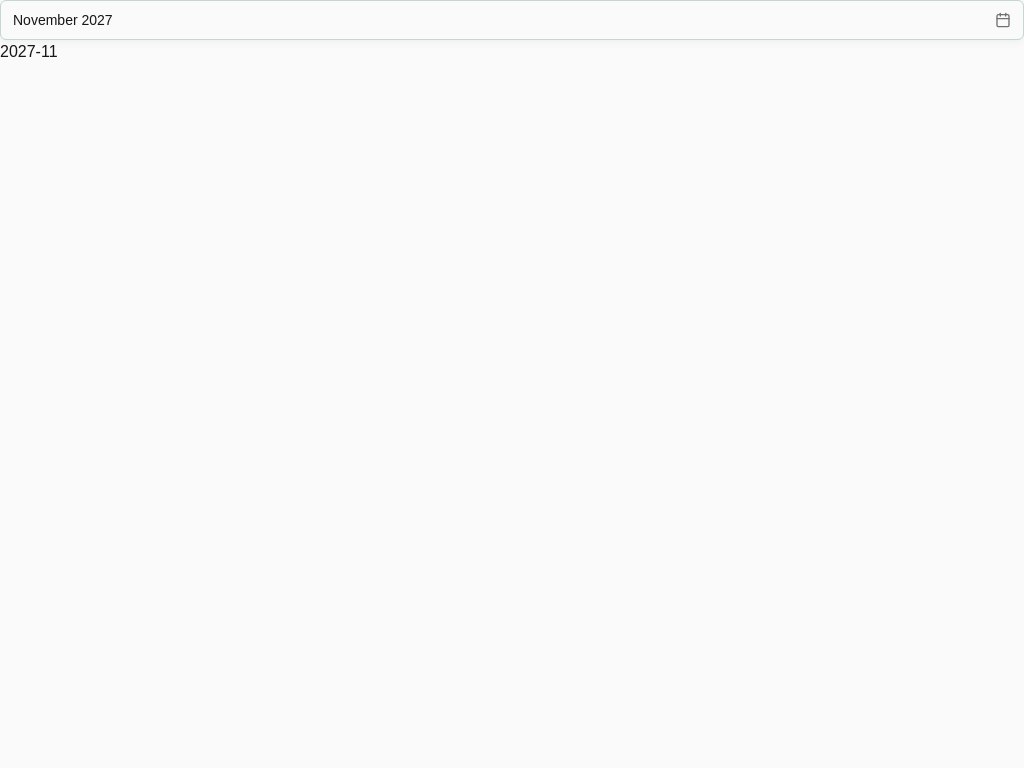
Test: MonthPickerString › tidak bisa memilih bulan di masa depan
The image size is (1024, 768).
Click the button with aria-label "Pilih bulan" at (63, 20), box [0,0,1023,40]
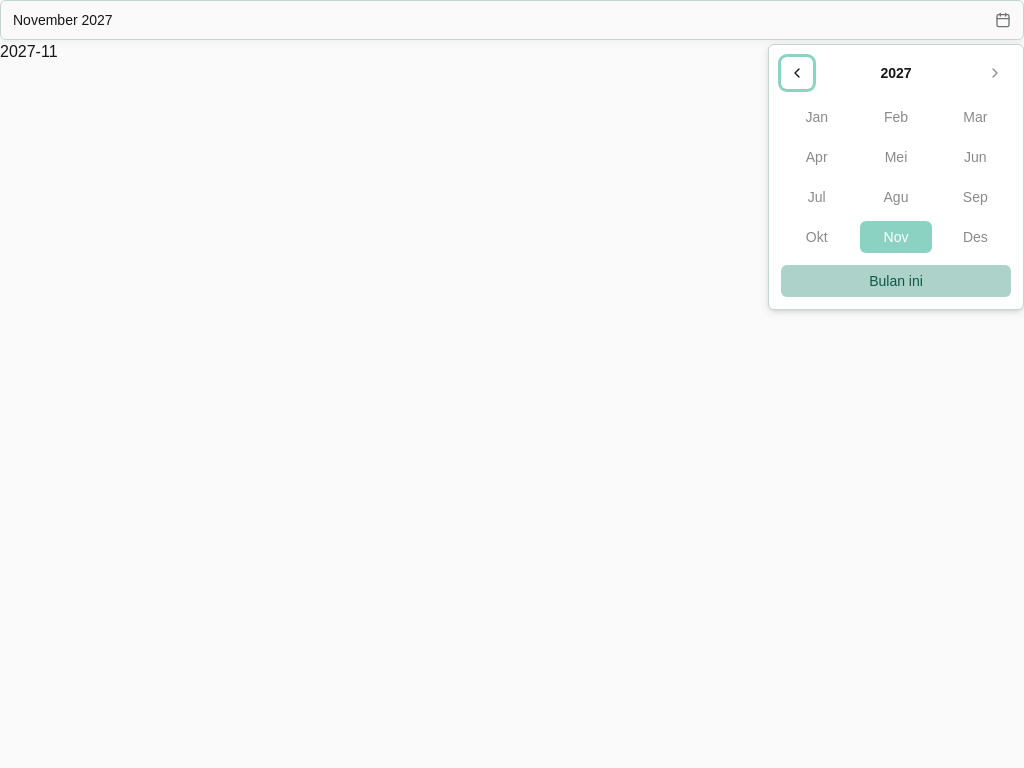
Expected: the button "Jan" is disabled, [781,101,852,133]
